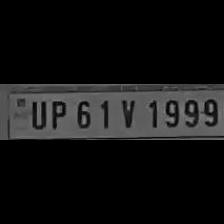1: (96, 96, 114, 130), (140, 96, 158, 128)
6: (70, 96, 94, 130)
9: (198, 96, 220, 128), (160, 96, 180, 128), (181, 96, 199, 128)
P: (46, 98, 68, 130)
U: (26, 98, 48, 130)
V: (115, 96, 139, 130)
